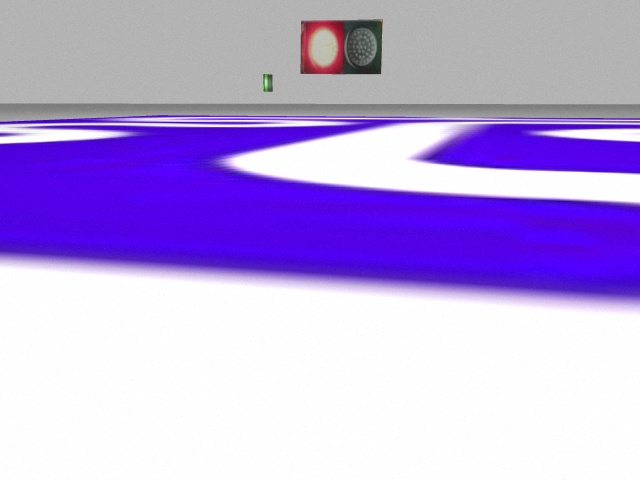red: (300, 21, 344, 73)
